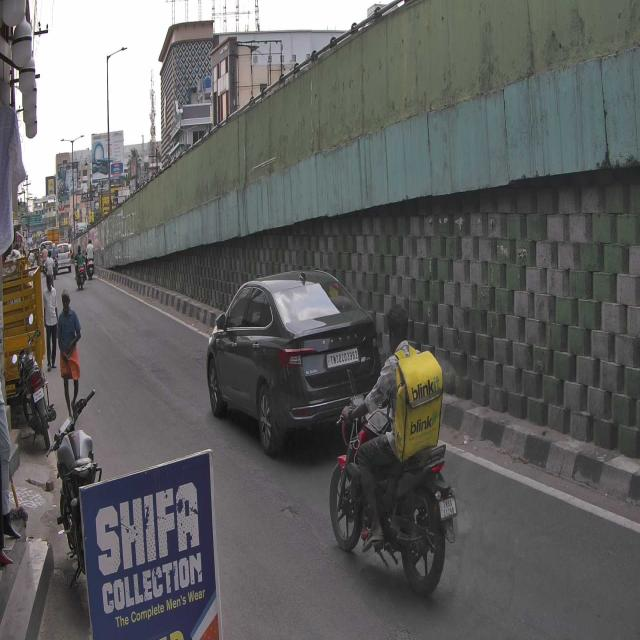single_rider: (328, 304, 459, 598)
